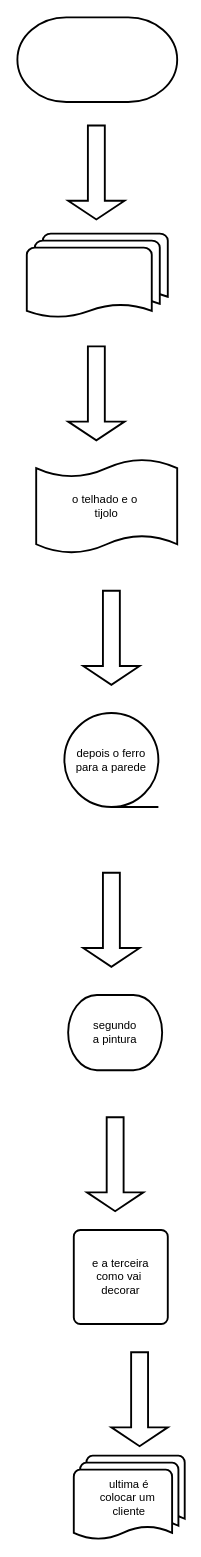
The diagram is 201 pixels wide and 1557 high, and some of its shapes have lost their labels. Here are the shapes that lost their labels. From the top down, the box of each, then its label:
(16, 16, 178, 102): inicio
(25, 232, 168, 319): primeiro vem
